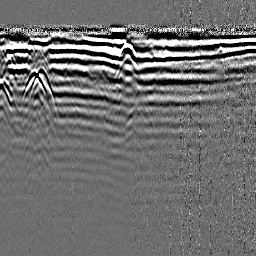cavity: (118, 40, 137, 62)
